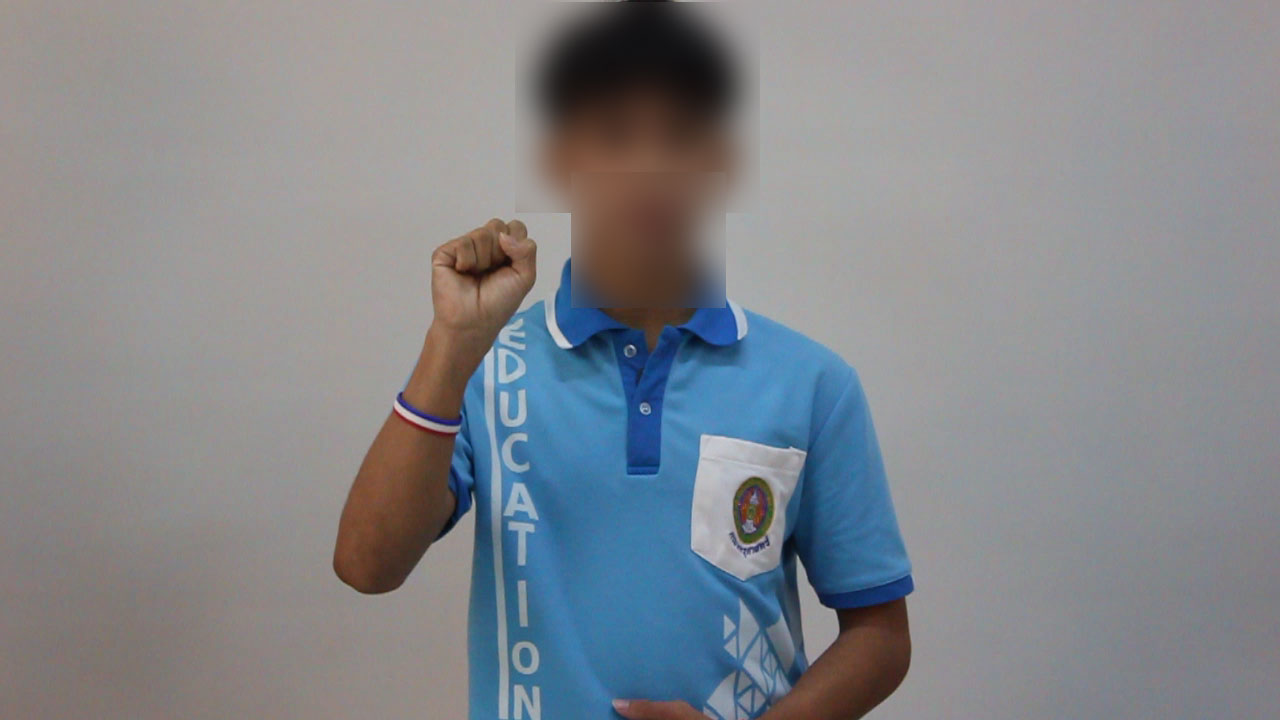sor: (415, 206, 542, 357)
